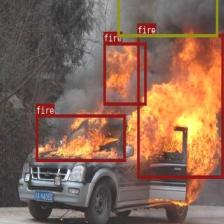fire: (137, 34, 223, 177), (35, 114, 125, 161), (103, 42, 146, 105)
smoke: (117, 0, 218, 36)
